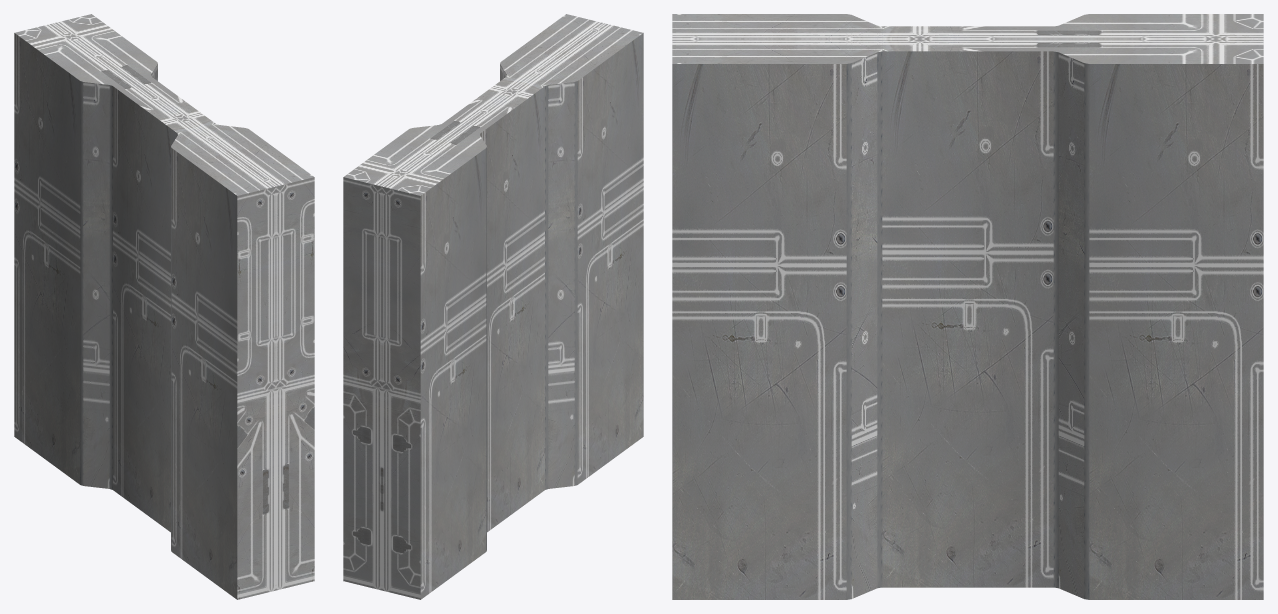
The model's file is SM_WallS013b7.fbx.
3 views of the same model, side by side, from view 1: azimuth 30°, elevation 25°; view 2: azimuth 150°, elevation 25°; view 3: azimuth 270°, elevation 25° (orthographic). The views are drawn at different scales.
Visible parts, largest first — view 1: SM_WallS013b7_LOD0; view 2: SM_WallS013b7_LOD0; view 3: SM_WallS013b7_LOD0.
Part boxes in pixels (<box>): SM_WallS013b7_LOD0: <box>14,14,314,599</box>; SM_WallS013b7_LOD0: <box>343,14,643,599</box>; SM_WallS013b7_LOD0: <box>672,14,1263,599</box>.
Bounding box in the file's own units: 80 × 400 × 400.
